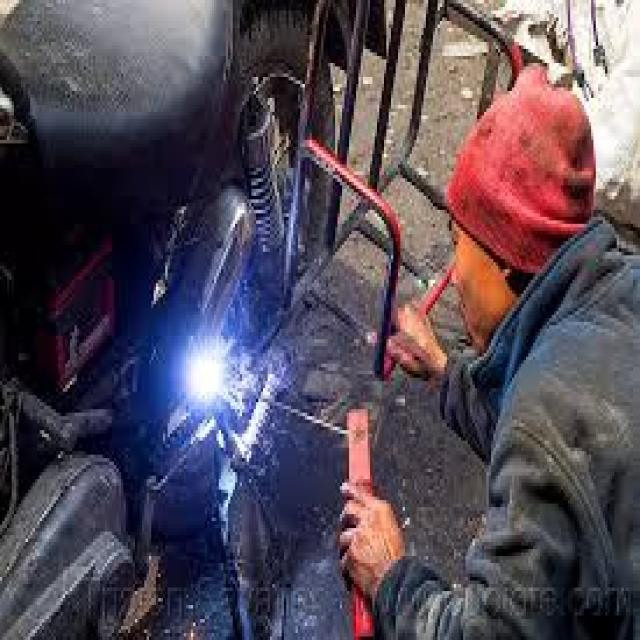without_helmet: (437, 58, 604, 360)
